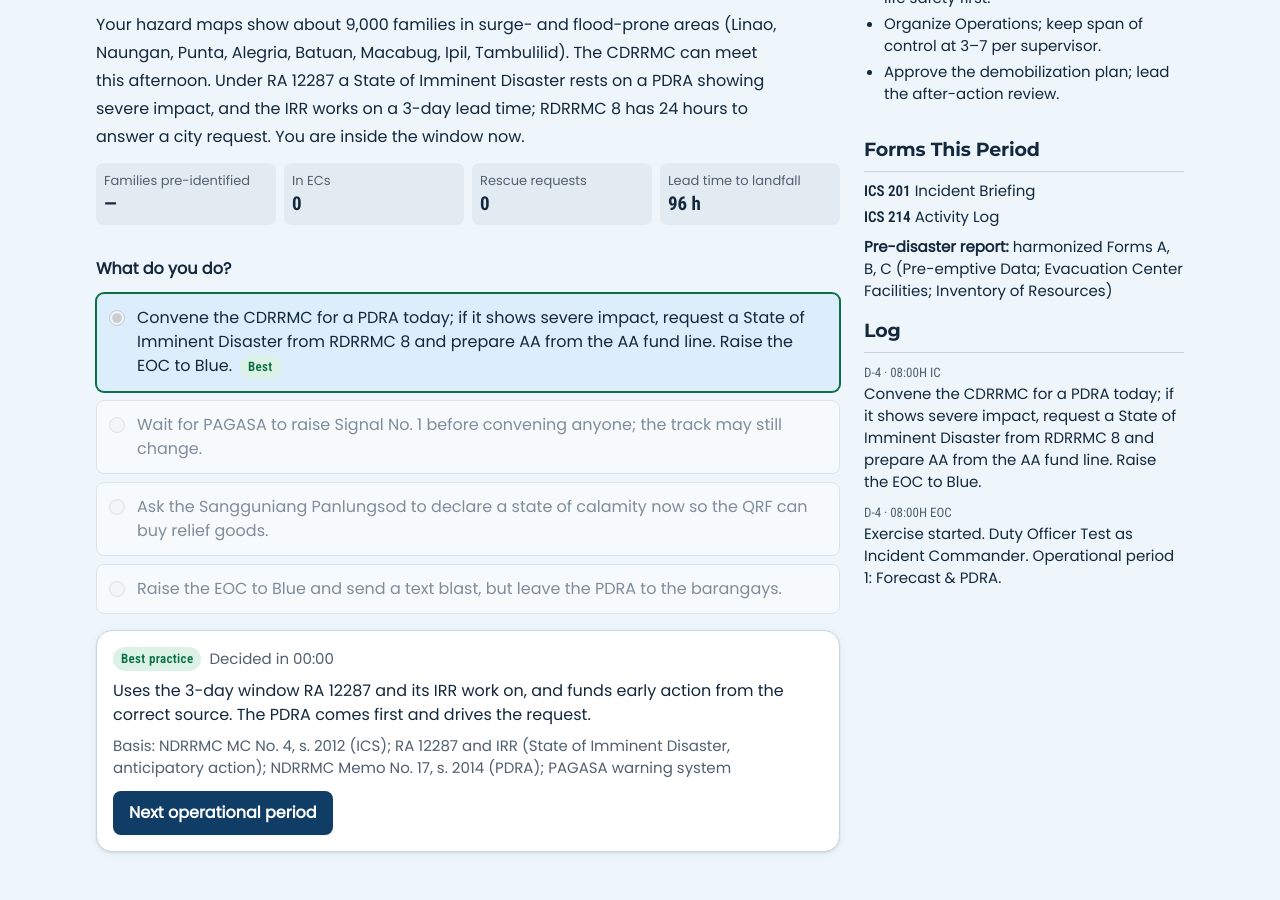
Scenario: ICS simulator › runs a full individual drill through to the after-action review
Earlier steps of the test are not shown.
Later steps or results of the test are not shown.
(page scrolled)
expect the text "Basis:" is shown: met, box 113,735 -> 159,756
Click the button "Next operational period".
click(223, 813)  # box 113,791 -> 333,835
(page scrolled)
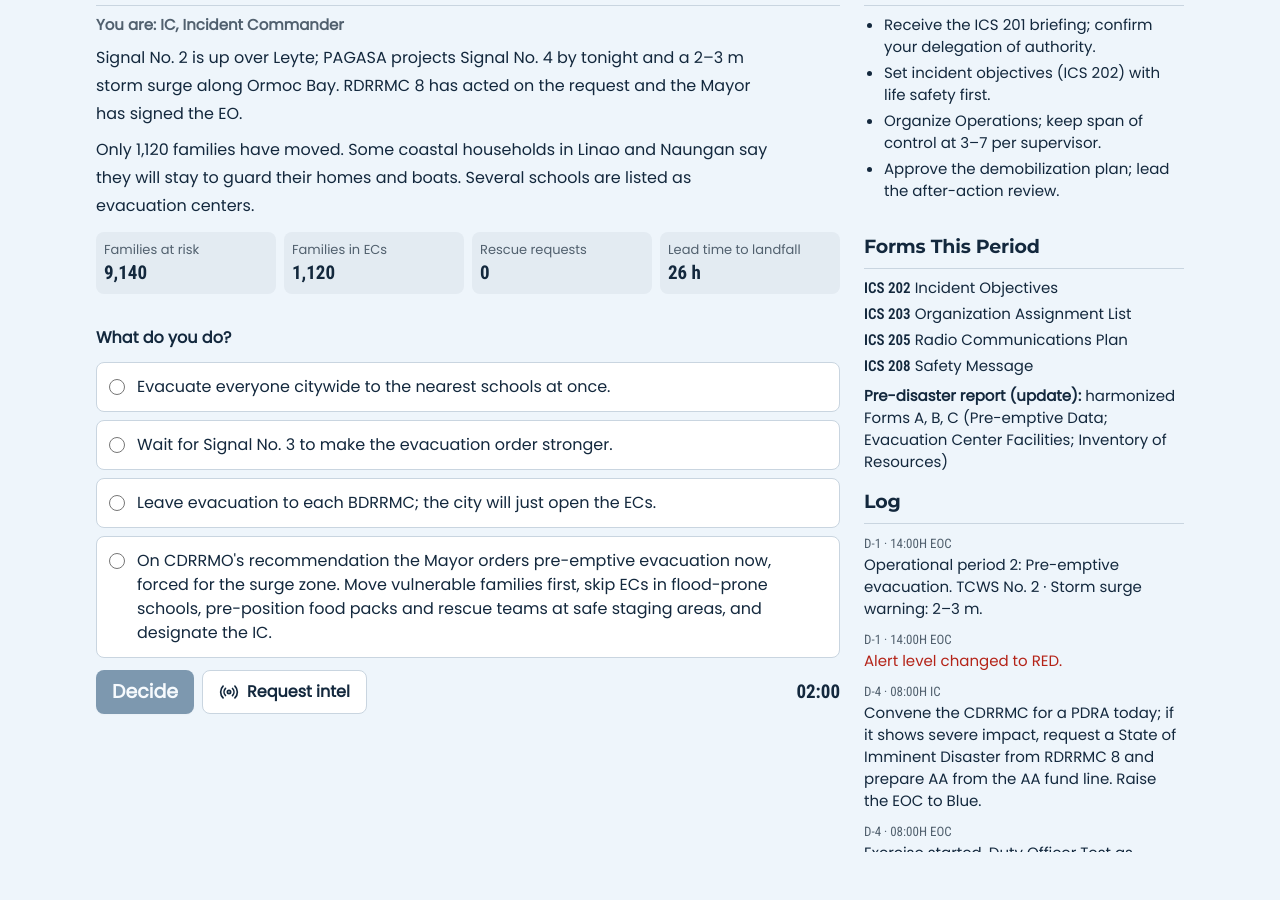
Click the radio button labelled "Evacuate everyone citywide to the nearest schools at once.".
click(117, 387)  # box 109,379 -> 125,395
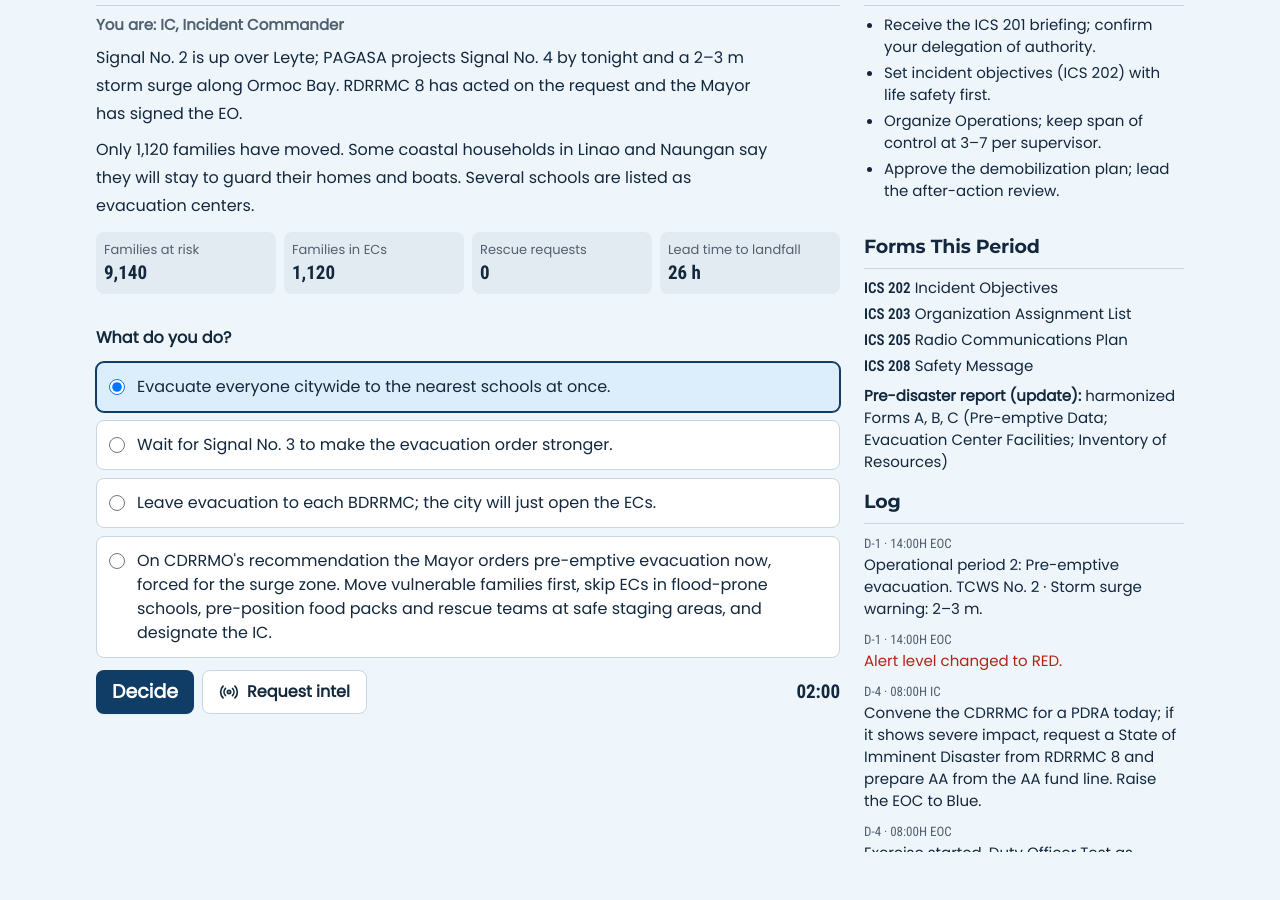
Click the button "Decide".
click(145, 692)  # box 96,670 -> 194,714
(page scrolled)
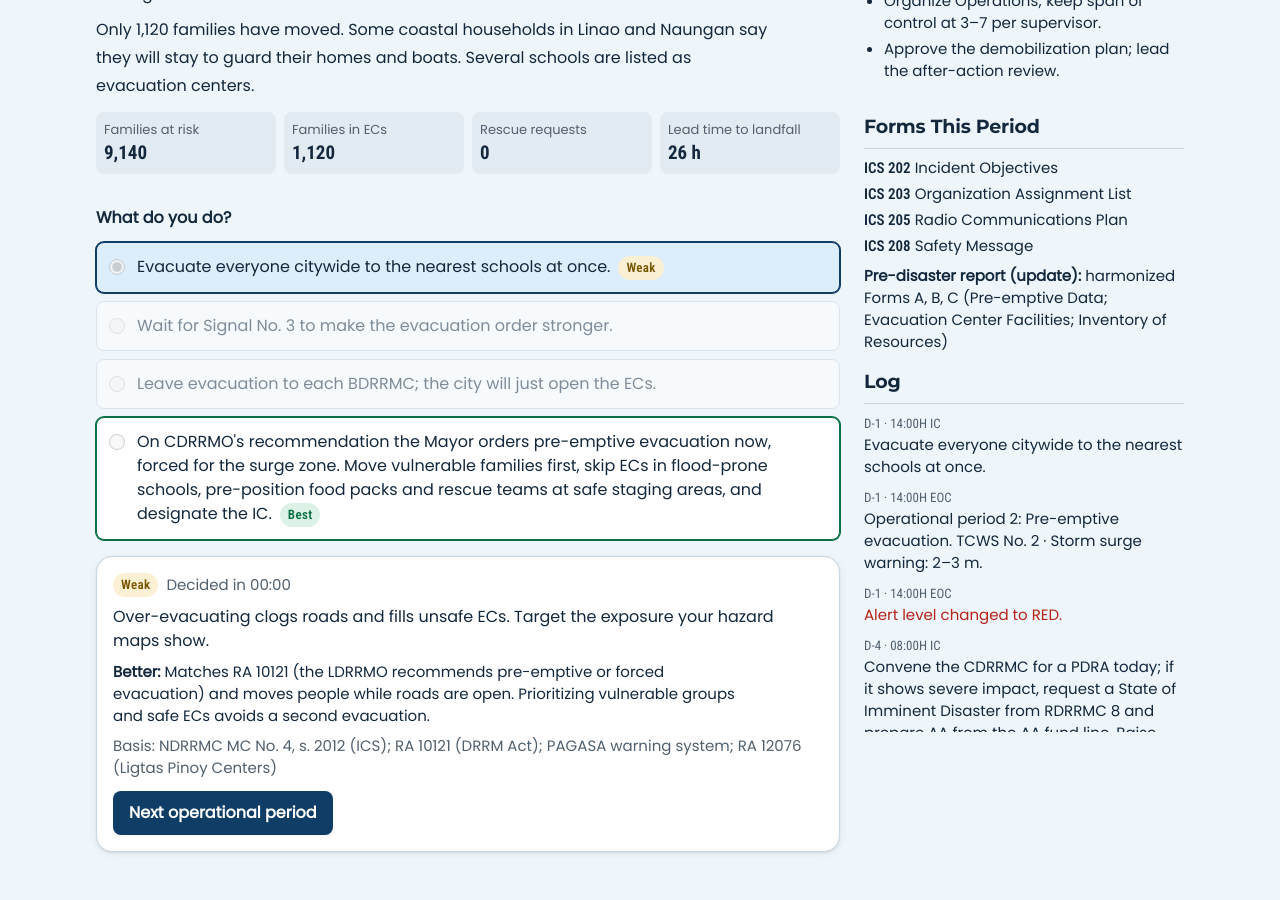
expect the text "Basis:" is shown: met, box 113,735 -> 159,756
Click the button "Next operational period".
click(223, 813)  # box 113,791 -> 333,835
(page scrolled)
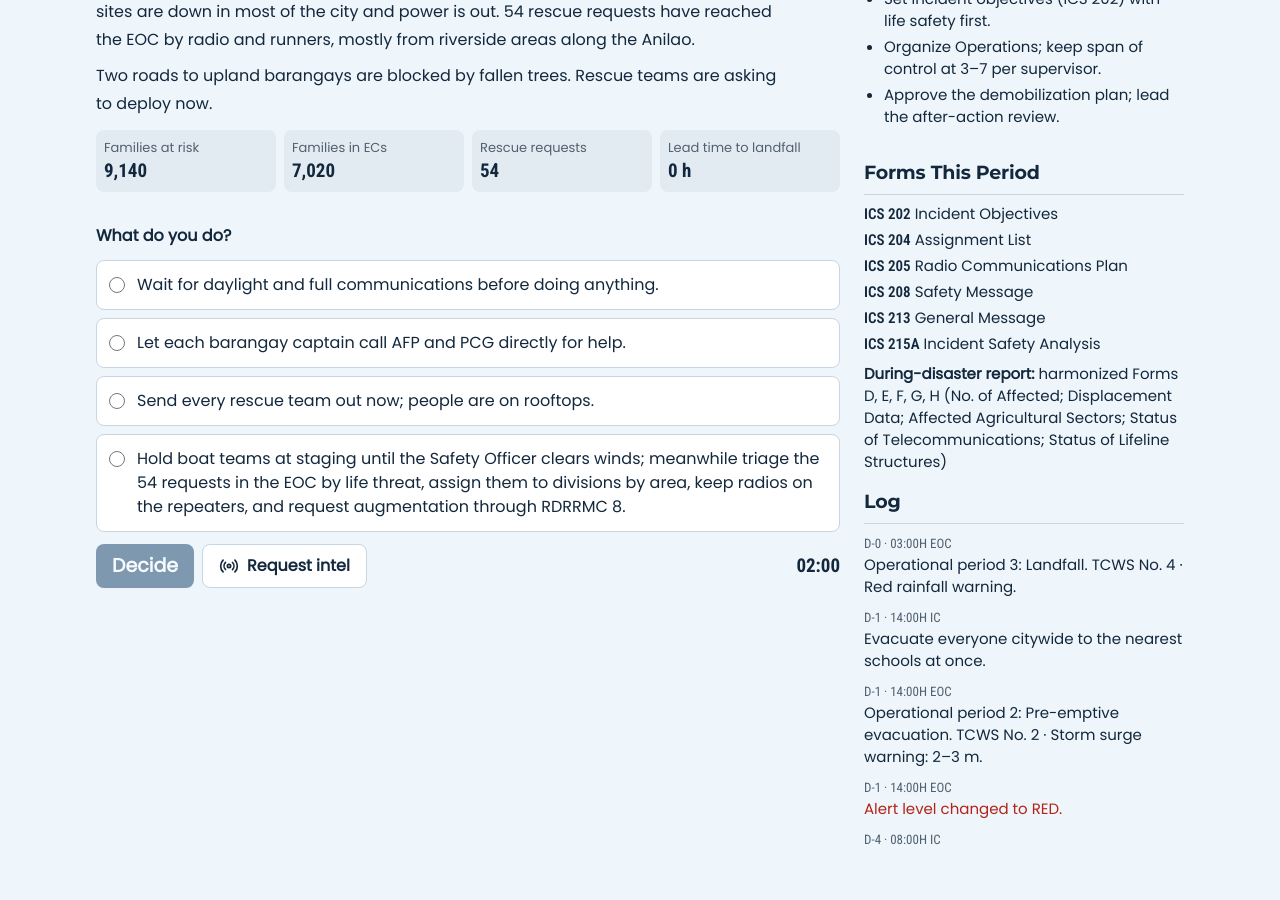
Click the 1st radio button.
click(117, 285)  # box 109,277 -> 125,293
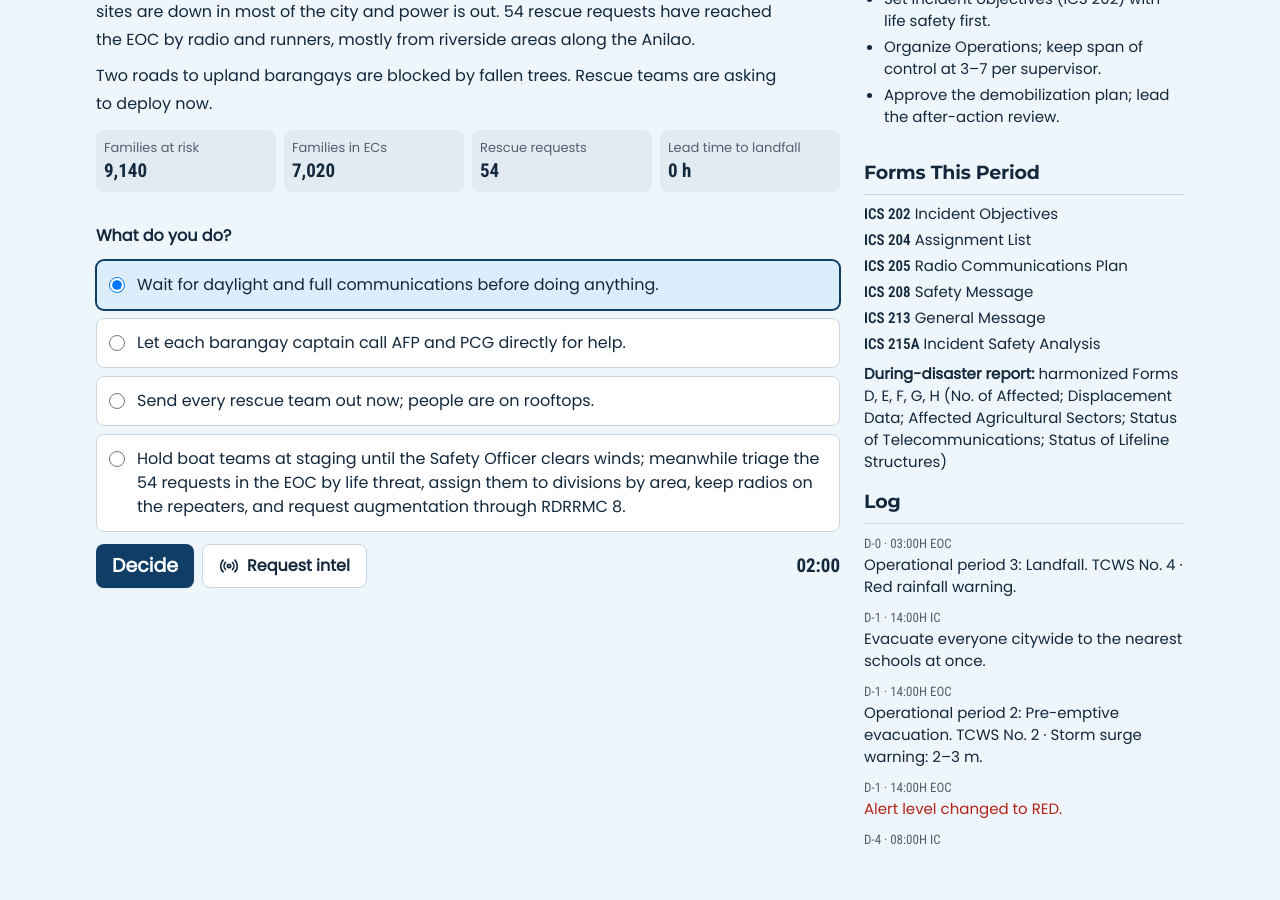
Click the button "Decide".
click(145, 566)  # box 96,544 -> 194,588
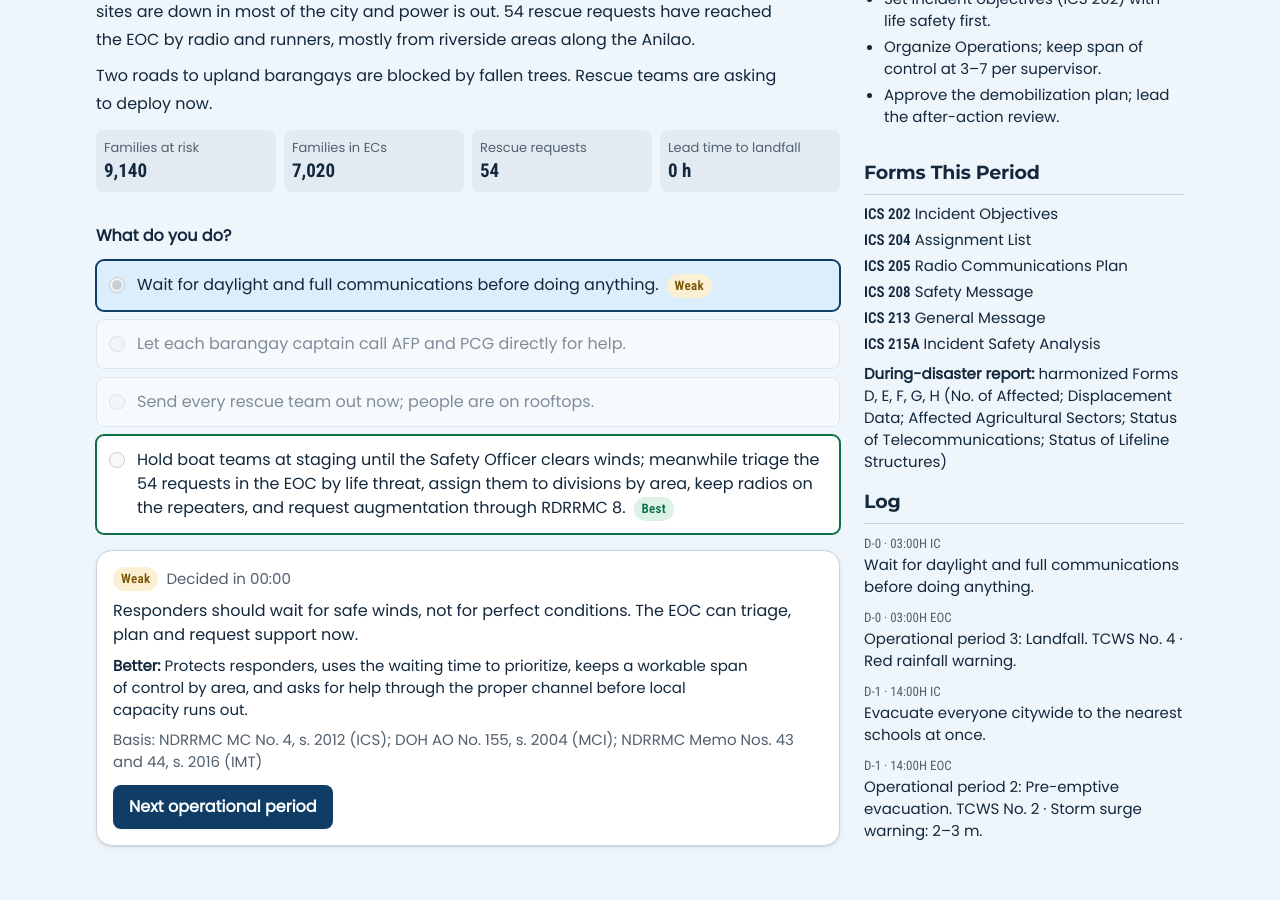
expect the text "Basis:" is shown: met, box 113,729 -> 159,750
